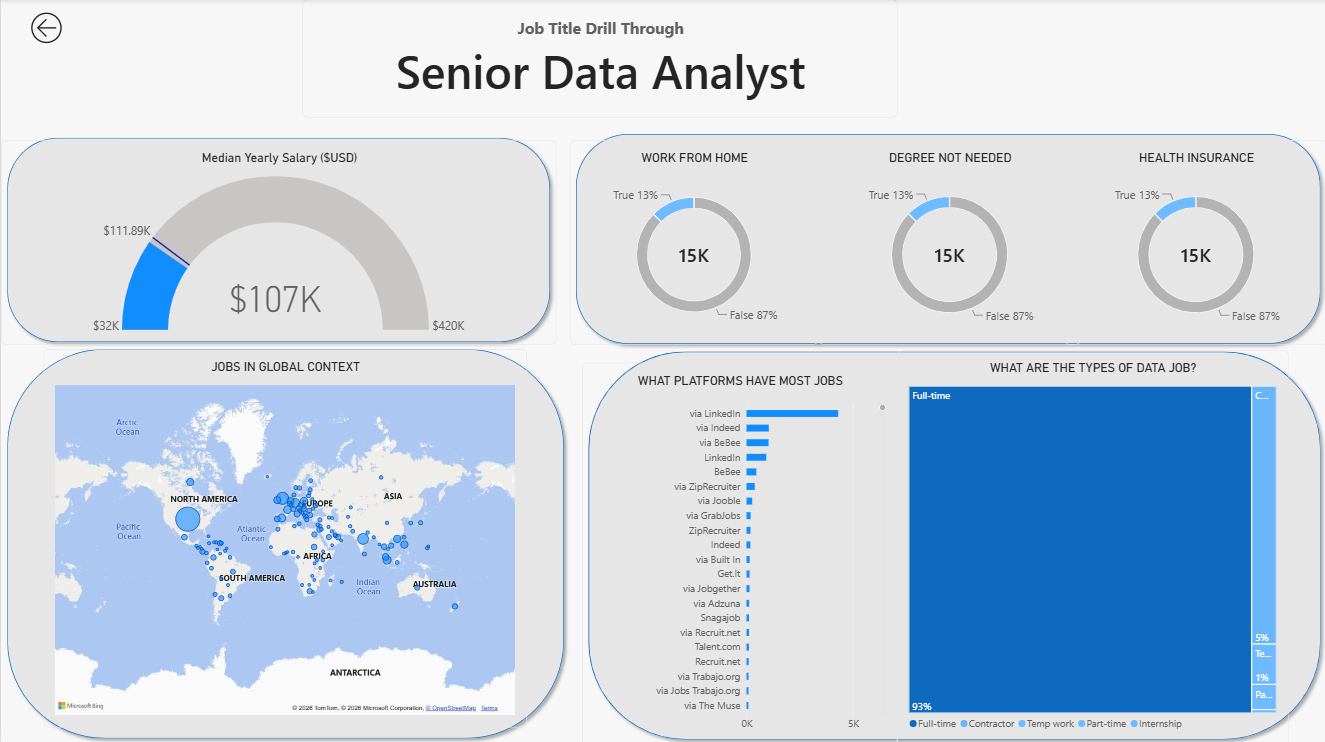

This screenshot's page, from the dashboard's own definition file:
{"tool":"powerbi","page":{"name":"Job Drill Through","canvas":[1920,1080],"ordinal":1},"visuals":[{"type":"group","id":"g1","title":"Background","box":[0,186,1920,894],"z":0},{"type":"shape","box":[0,192,804,314],"z":0,"group":"g1"},{"type":"cardVisual","fields":{"Data":["Min(job_postings_flat.job_title_short)"]},"box":[436,0,862,172],"z":1000},{"type":"shape","box":[824,186,1096,322],"z":1000,"group":"g1"},{"type":"actionButton","box":[0,0,132,84],"z":2000},{"type":"shape","box":[0,498,824,582],"z":2000,"group":"g1"},{"type":"gauge","title":"Median Yearly Salary ($USD)","fields":{"MaxValue":["Max(job_postings_flat.salary_year_avg)2"],"MinValue":["Min(job_postings_flat.salary_year_avg)1"],"TargetValue":["Avg(job_postings_flat.salary_year_avg)3"],"Y":["Median(job_postings_flat.salary_year_avg)"]},"box":[0,204,804,296],"z":3000},{"type":"shape","box":[842,500,1078,580],"z":3000,"group":"g1"},{"type":"donutChart","title":"WORK FROM HOME","fields":{"Category":["job_postings_flat.job_work_from_home"],"Y":["CountNonNull(job_postings_flat.job_work_from_home)"]},"box":[824,204,360,296],"z":4000},{"type":"donutChart","title":"DEGREE NOT NEEDED","fields":{"Category":["job_postings_flat.job_work_from_home"],"Y":["CountNonNull(job_postings_flat.job_work_from_home)"]},"box":[1184,204,380,296],"z":5000},{"type":"donutChart","title":"HEALTH INSURANCE","fields":{"Category":["job_postings_flat.job_work_from_home"],"Y":["CountNonNull(job_postings_flat.job_work_from_home)"]},"box":[1540,204,380,296],"z":6000},{"type":"map","title":"JOBS IN GLOBAL CONTEXT","fields":{"Category":["job_postings_flat.job_country"],"Size":["CountNonNull(job_postings_flat.job_title_short)"]},"box":[62,506,700,548],"z":7000},{"type":"treemap","title":"WHAT ARE THE TYPES OF DATA JOB?","fields":{"Group":["job_postings_flat.job_schedule_type"],"Values":["CountNonNull(job_postings_flat.job_schedule_type)"]},"box":[1298,508,566,572],"z":8000},{"type":"barChart","title":"WHAT PLATFORMS HAVE MOST JOBS","fields":{"Category":["job_postings_flat.job_via"],"Y":["CountNonNull(job_postings_flat.job_title_short)"]},"box":[842,526,456,554],"z":9000}]}

Visuals, with their boxes in screenshot pixels (x1, y1, x2, y2), scaled from the page's 1920x1080 canvas onto the 1325x742 screenshot:
"Background" group: <bbox>0, 128, 1324, 741</bbox>
shape: <bbox>0, 132, 555, 348</bbox>
cardVisual - Min(job_postings_flat.job_title_short): <bbox>301, 0, 896, 118</bbox>
shape: <bbox>569, 128, 1324, 349</bbox>
actionButton: <bbox>0, 0, 91, 58</bbox>
shape: <bbox>0, 342, 569, 741</bbox>
"Median Yearly Salary ($USD)" gauge: <bbox>0, 140, 555, 344</bbox>
shape: <bbox>581, 344, 1324, 741</bbox>
"WORK FROM HOME" donutChart: <bbox>569, 140, 817, 344</bbox>
"DEGREE NOT NEEDED" donutChart: <bbox>817, 140, 1079, 344</bbox>
"HEALTH INSURANCE" donutChart: <bbox>1063, 140, 1324, 344</bbox>
"JOBS IN GLOBAL CONTEXT" map: <bbox>43, 348, 526, 724</bbox>
"WHAT ARE THE TYPES OF DATA JOB?" treemap: <bbox>896, 349, 1286, 741</bbox>
"WHAT PLATFORMS HAVE MOST JOBS" barChart: <bbox>581, 361, 896, 741</bbox>
